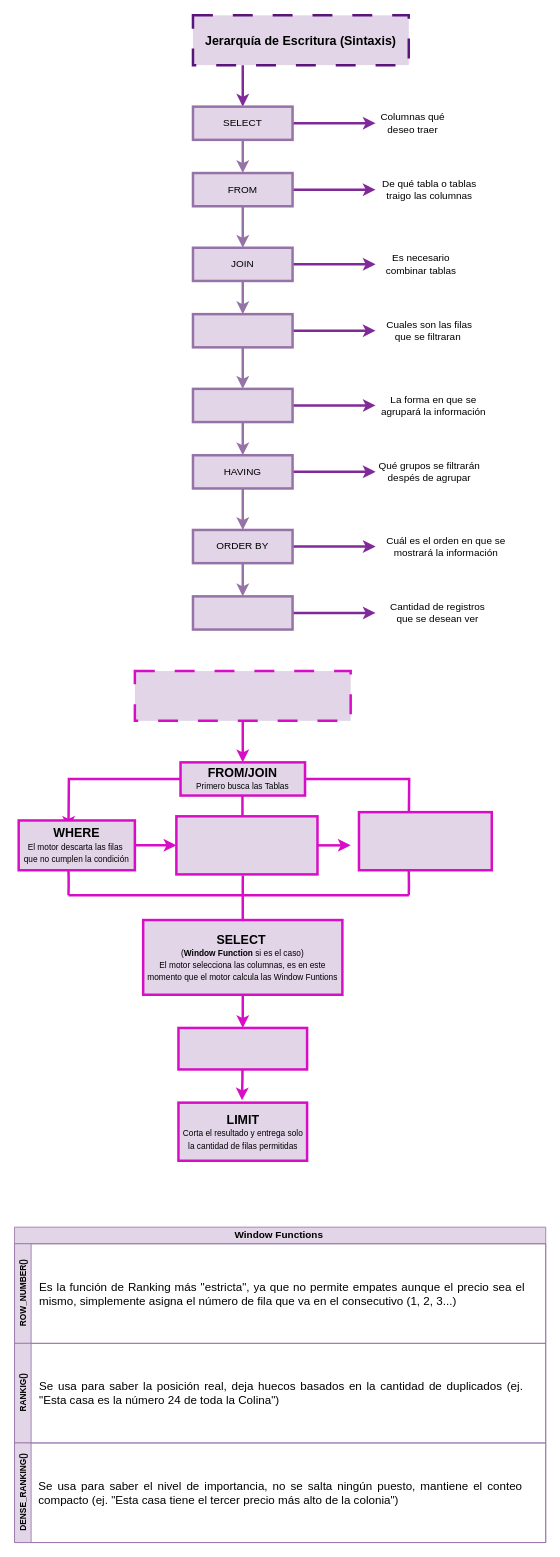
Image size: 560x1557. Some labels were removed from this diagram. The shapes that lost their labels are listed below. From the top down, each one's centre as x and y in pixels, then its label:
(x=242, y=330): WHERE
(x=242, y=405): GROUP BY
(x=242, y=612): LIMIT
(x=242, y=695): Flujo Lógico de Ejecución
(x=246, y=845): GROUP BY Con los datos filtrados el motor organiza la información por grupos
(x=425, y=840): HAVING Filtra sobre los grupos ya creados
(x=242, y=1048): ORDER BY Las columnas se ordenan según lo indicado en la sintaxis
